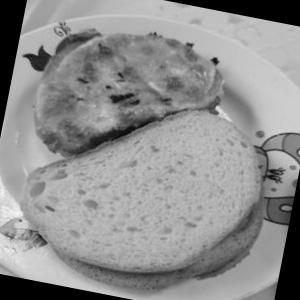bread: (14, 67, 272, 300)
cheese_sandwich: (8, 6, 244, 186)
